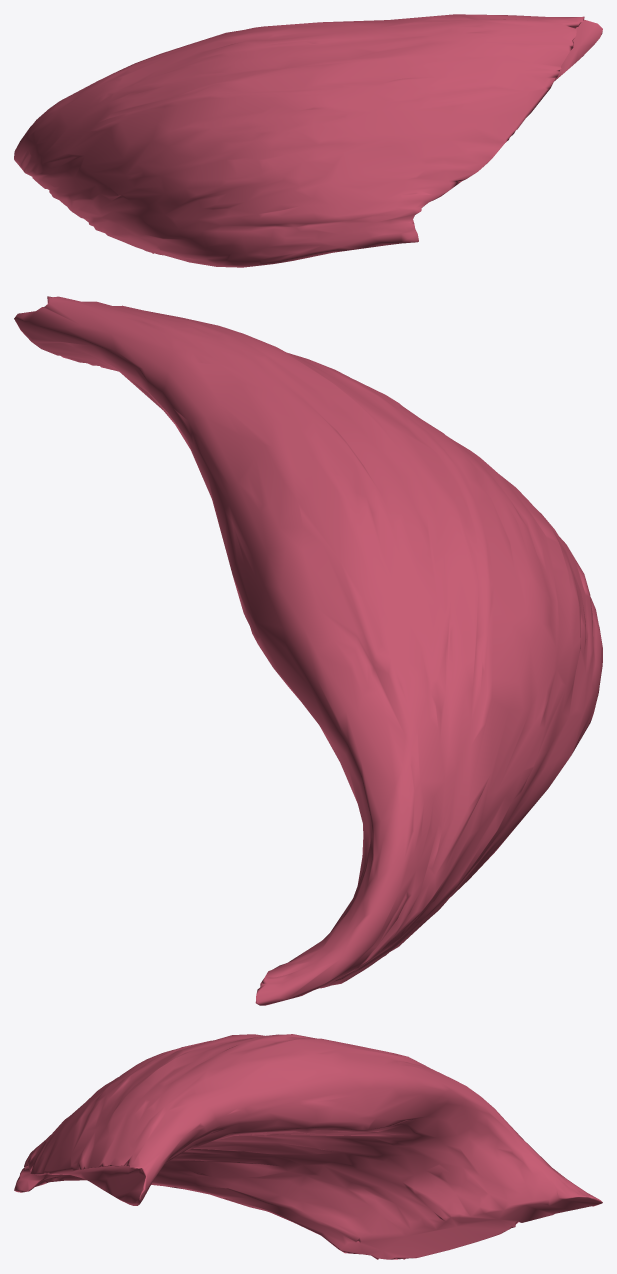
3 renders of one model, top to bottom at view 1: azimuth 30°, elevation 25°; view 2: azimuth 150°, elevation 25°; view 3: azimuth 270°, elevation 25°, orthographic. The views are drawn at different scales.
Visible parts, largest first — view 1: 右侧三角肌肩胛冈部; view 2: 右侧三角肌肩胛冈部; view 3: 右侧三角肌肩胛冈部.
Part boxes in pixels (x1,y1,x2,y2): 右侧三角肌肩胛冈部: [14, 14, 602, 267]; 右侧三角肌肩胛冈部: [14, 296, 602, 1005]; 右侧三角肌肩胛冈部: [14, 1034, 602, 1259].
Bounding box in the file's own units: 0.2015 × 0.118 × 0.2305.
